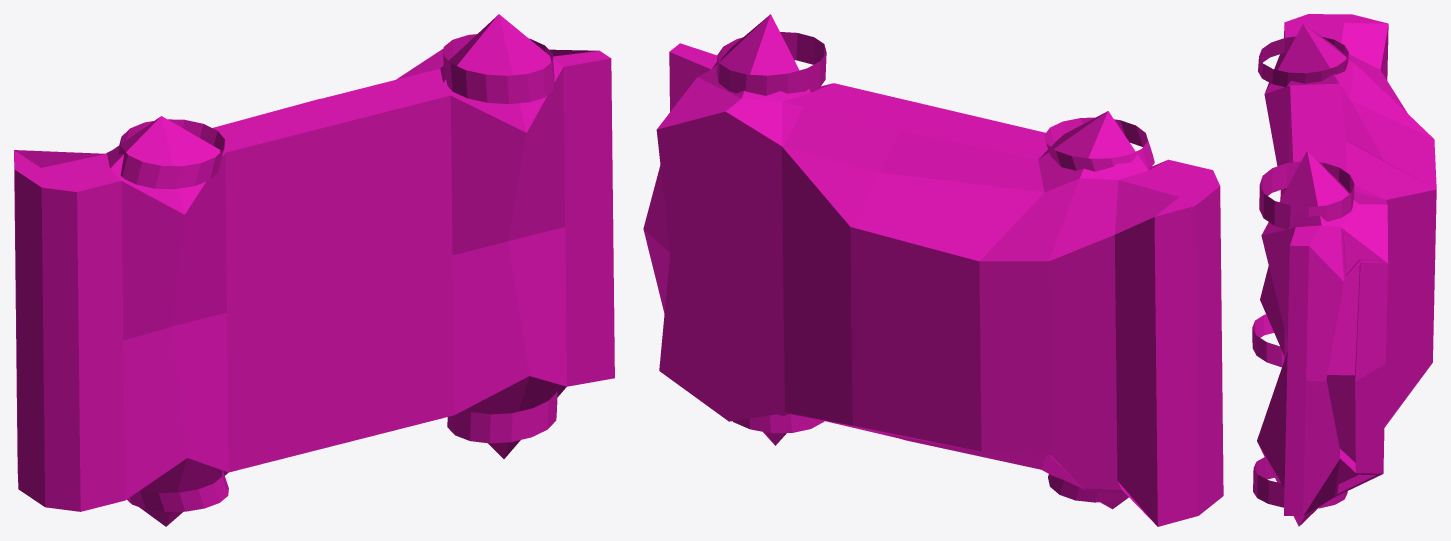
File: protoCar.fbx
3 renders of one model, left to right at view 1: azimuth 30°, elevation 25°; view 2: azimuth 150°, elevation 25°; view 3: azimuth 270°, elevation 25°, orthographic. The views are drawn at different scales.
Parts seen in each view (by area): view 1: Cube; view 2: Cube; view 3: Cube.
Boxes of the visible parts, left/top/right/bottom form: Cube: left=14, top=14, right=614, bottom=526; Cube: left=643, top=14, right=1223, bottom=526; Cube: left=1252, top=14, right=1436, bottom=526.
Size of the model in its own units: 435 by 328 by 146.
